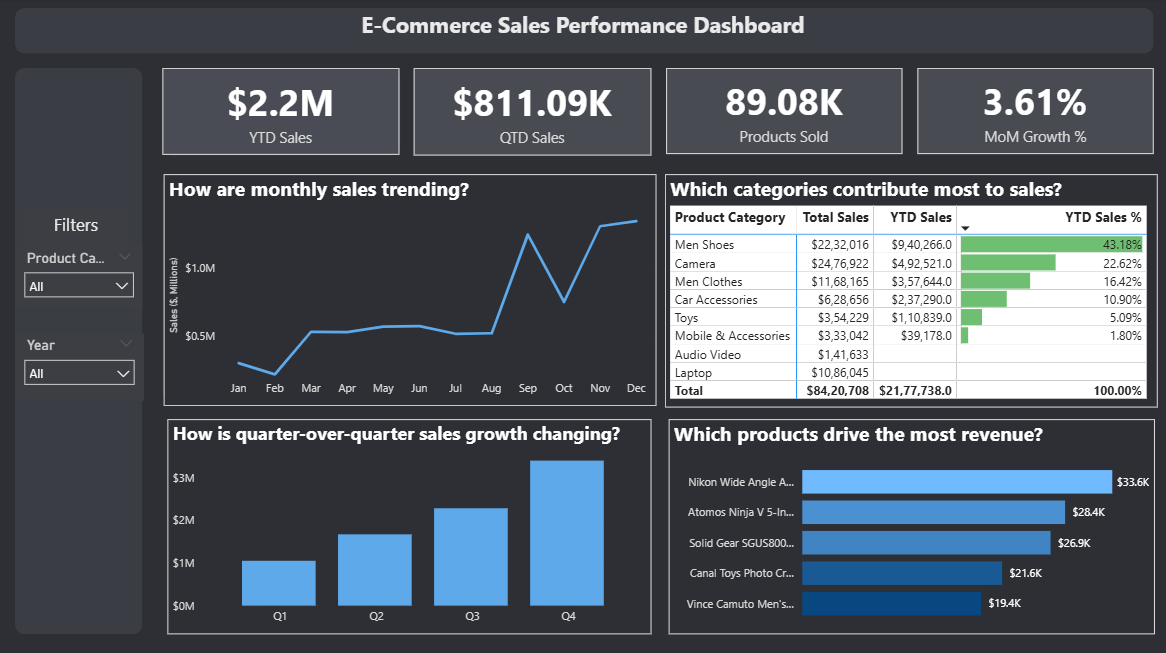

This screenshot's page, from the dashboard's own definition file:
{"tool":"powerbi","page":{"name":"Page 1","canvas":[1280,720],"ordinal":0},"visuals":[{"type":"shape","box":[179.8,78.2,260,95],"z":0,"group":"g1"},{"type":"shape","box":[15.8,11.3,1250,50],"z":0},{"type":"card","fields":{"Values":["Amazon_Data.Total_Sales_YTD"]},"box":[178.4,76.8,260,95],"z":1000,"group":"g1"},{"type":"textbox","title":"mmm","box":[384.2,8.2,511.8,56.3],"z":1000},{"type":"card","fields":{"Values":["Amazon_Data.QTD Sales"]},"box":[454.6,76.8,260.7,96.1],"z":2000,"group":"g1"},{"type":"shape","box":[16.5,76.8,140,621.6],"z":2000},{"type":"card","fields":{"Values":["Amazon_Data.Products Sold"]},"box":[731.6,76.8,259.3,94.7],"z":3000,"group":"g1"},{"type":"group","id":"g1","title":"Group 1","box":[178.4,76.8,1088.2,96.4],"z":3000},{"type":"card","fields":{"Values":["Amazon_Data.MoM Sales Growth %"]},"box":[1007.2,76.8,259.3,94.7],"z":4000,"group":"g1"},{"type":"shape","box":[178.4,193.5,542,250],"z":4000},{"type":"lineChart","title":"How are monthly sales trending?","fields":{"Category":["date_table.Month_Name"],"Y":["Amazon_Data.Total Sales"]},"box":[179.3,193.5,541,254],"z":5000},{"type":"pivotTable","title":"Which categories contribute most to sales?","fields":{"Rows":["Amazon_Data.Product Category"],"Values":["Amazon_Data.Total Sales","Amazon_Data.YTD Sales","Amazon_Data.YTD Sales %"]},"box":[730.3,192.9,541,256],"z":6000},{"type":"columnChart","title":"How is quarter-over-quarter sales growth changing?","fields":{"Category":["date_table.Quarter"],"Y":["Amazon_Data.Total Sales"]},"box":[184.3,462.4,531,236],"z":7000},{"type":"barChart","title":"Which products drive the most revenue?","fields":{"Category":["Amazon_Data.Product Description"],"Y":["Amazon_Data.YTD Sales"]},"box":[733.9,462.4,533.8,236],"z":8000},{"type":"slicer","fields":{"Values":["Amazon_Data.Product Category"]},"box":[16.8,271.4,140,68.6],"z":9000},{"type":"slicer","fields":{"Values":["date_table.Year"]},"box":[16.1,367.1,141.4,74.3],"z":10000},{"type":"textbox","box":[25.7,230,114.3,41],"z":11000}]}

Visuals, with their boxes in screenshot pixels (x1, y1, x2, y2), scaled from the page's 1280x720 canvas onto the 1166x653 screenshot:
shape: [x1=164, y1=71, x2=401, y2=157]
shape: [x1=14, y1=10, x2=1153, y2=56]
card - Amazon_Data.Total_Sales_YTD: [x1=163, y1=70, x2=399, y2=156]
"mmm" textbox: [x1=350, y1=7, x2=816, y2=58]
card - Amazon_Data.QTD Sales: [x1=414, y1=70, x2=652, y2=157]
shape: [x1=15, y1=70, x2=143, y2=633]
card - Amazon_Data.Products Sold: [x1=666, y1=70, x2=903, y2=156]
"Group 1" group: [x1=163, y1=70, x2=1154, y2=157]
card - Amazon_Data.MoM Sales Growth %: [x1=917, y1=70, x2=1154, y2=156]
shape: [x1=163, y1=175, x2=656, y2=402]
"How are monthly sales trending?" lineChart: [x1=163, y1=175, x2=656, y2=406]
"Which categories contribute most to sales?" pivotTable: [x1=665, y1=175, x2=1158, y2=407]
"How is quarter-over-quarter sales growth changing?" columnChart: [x1=168, y1=419, x2=652, y2=633]
"Which products drive the most revenue?" barChart: [x1=669, y1=419, x2=1155, y2=633]
slicer - Amazon_Data.Product Category: [x1=15, y1=246, x2=143, y2=308]
slicer - date_table.Year: [x1=15, y1=333, x2=143, y2=400]
textbox: [x1=23, y1=209, x2=128, y2=246]
